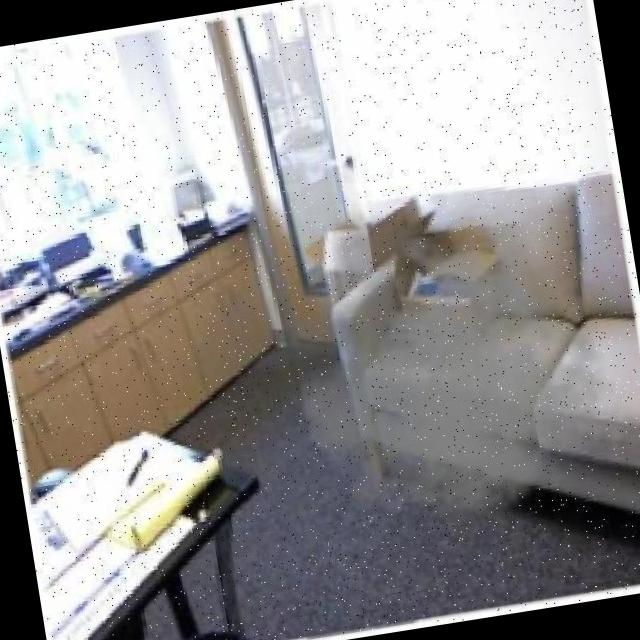Smoke: (258, 128, 596, 530)
